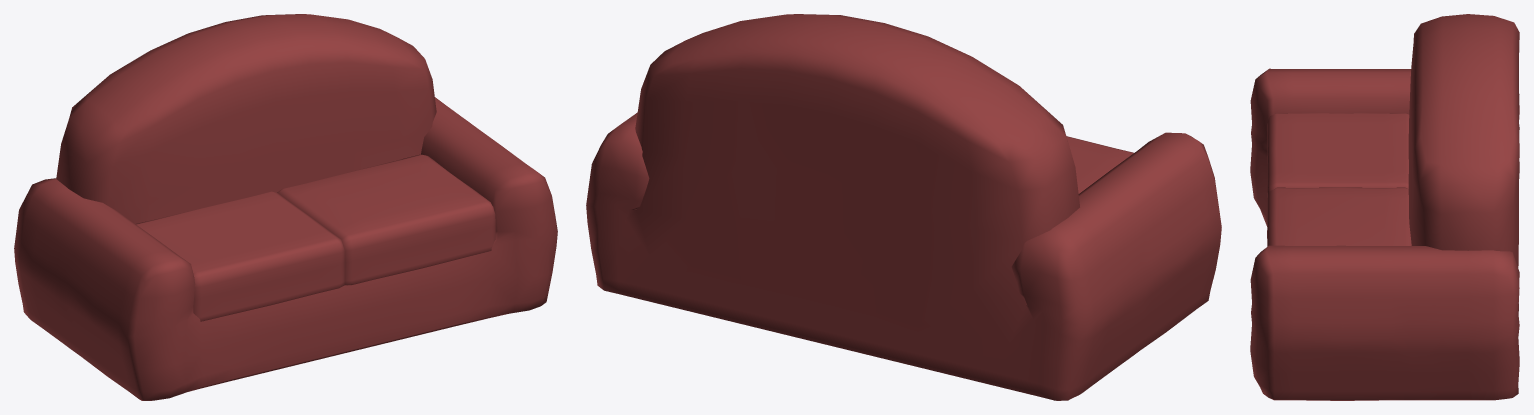
Rendered from couch.fbx.
3 views of the same model, side by side, from view 1: azimuth 30°, elevation 25°; view 2: azimuth 150°, elevation 25°; view 3: azimuth 270°, elevation 25° (orthographic). The views are drawn at different scales.
Visible parts, largest first — view 1: pCube3; view 2: pCube3; view 3: pCube3.
Boxes of the visible parts, x1,y1,x2,y2 form: pCube3: [14, 14, 557, 400]; pCube3: [586, 14, 1221, 400]; pCube3: [1250, 14, 1519, 400].
Size of the model in its own units: 23.2 by 12.93 by 12.28.
